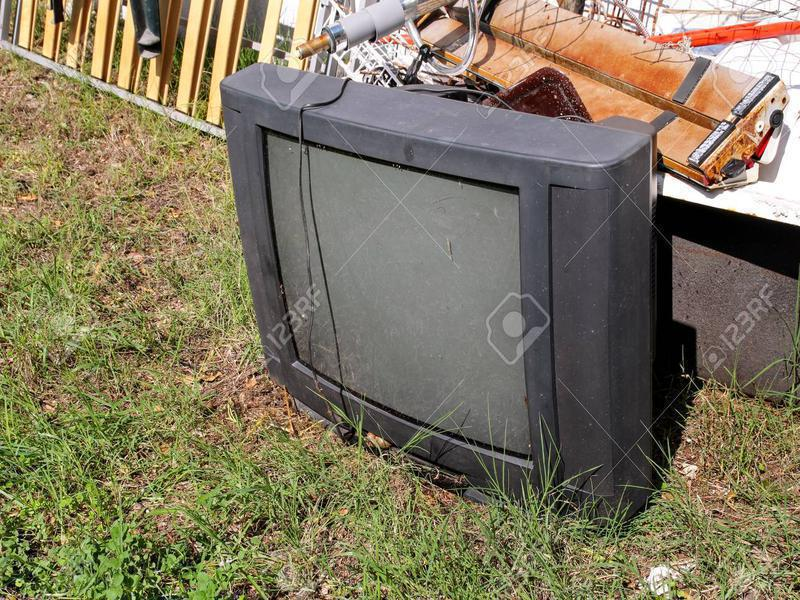tv_pc: (219, 61, 673, 538)
